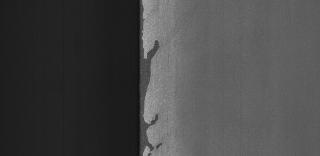water spot: (127, 2, 169, 156)
